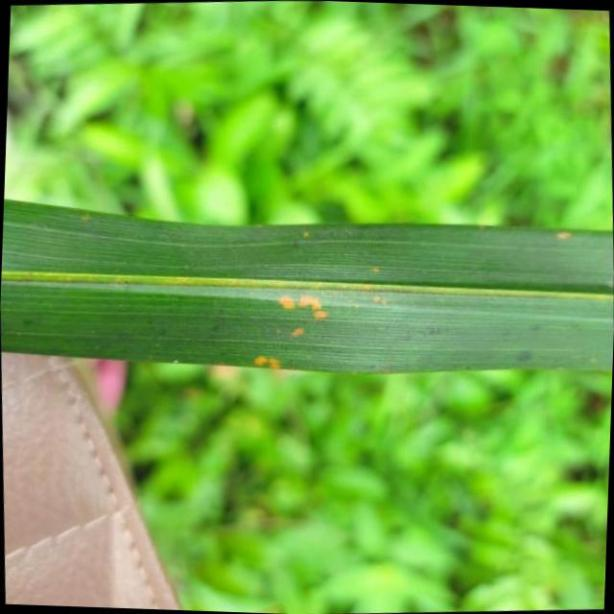Kalium: (1, 195, 614, 371)
